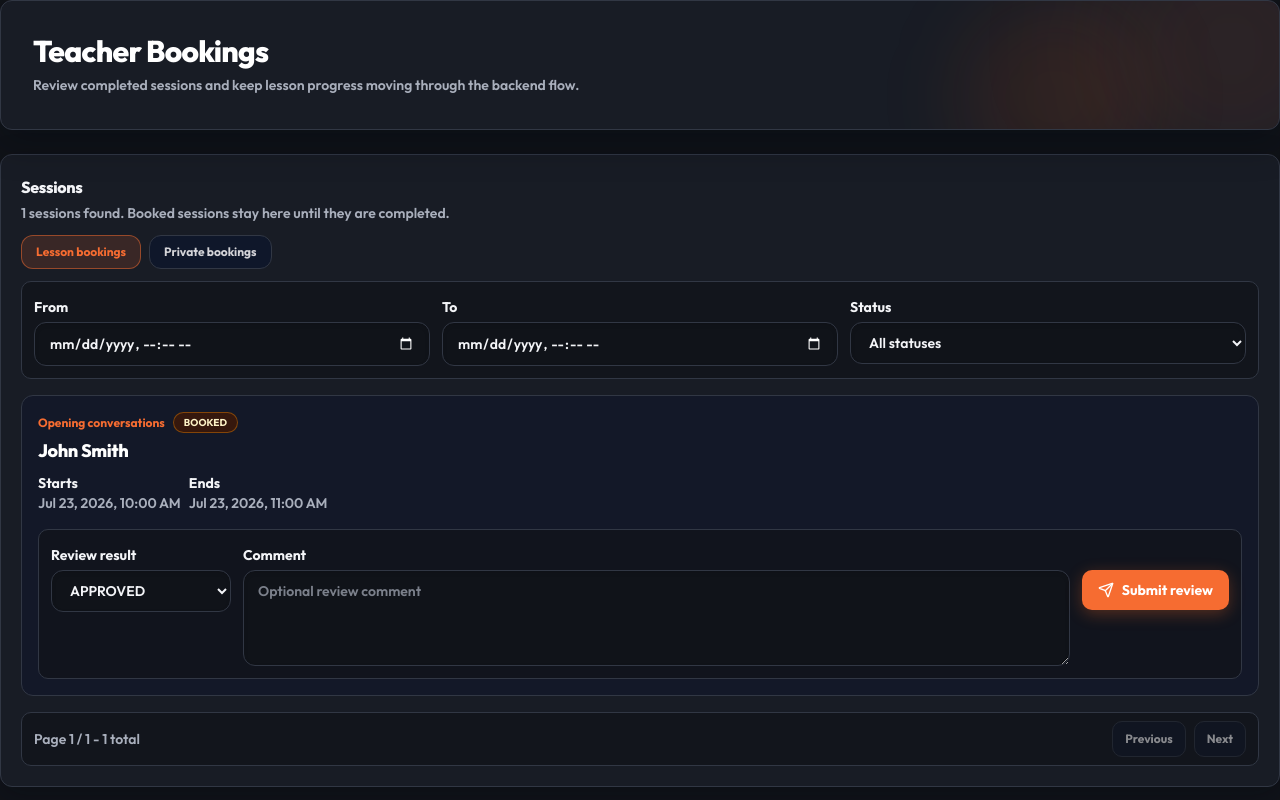
it: Teacher workspace › prevents completing private bookings before the end time
Click the button with test id "teacher-booking-type-private": (210,252) 149,235 -> 272,269
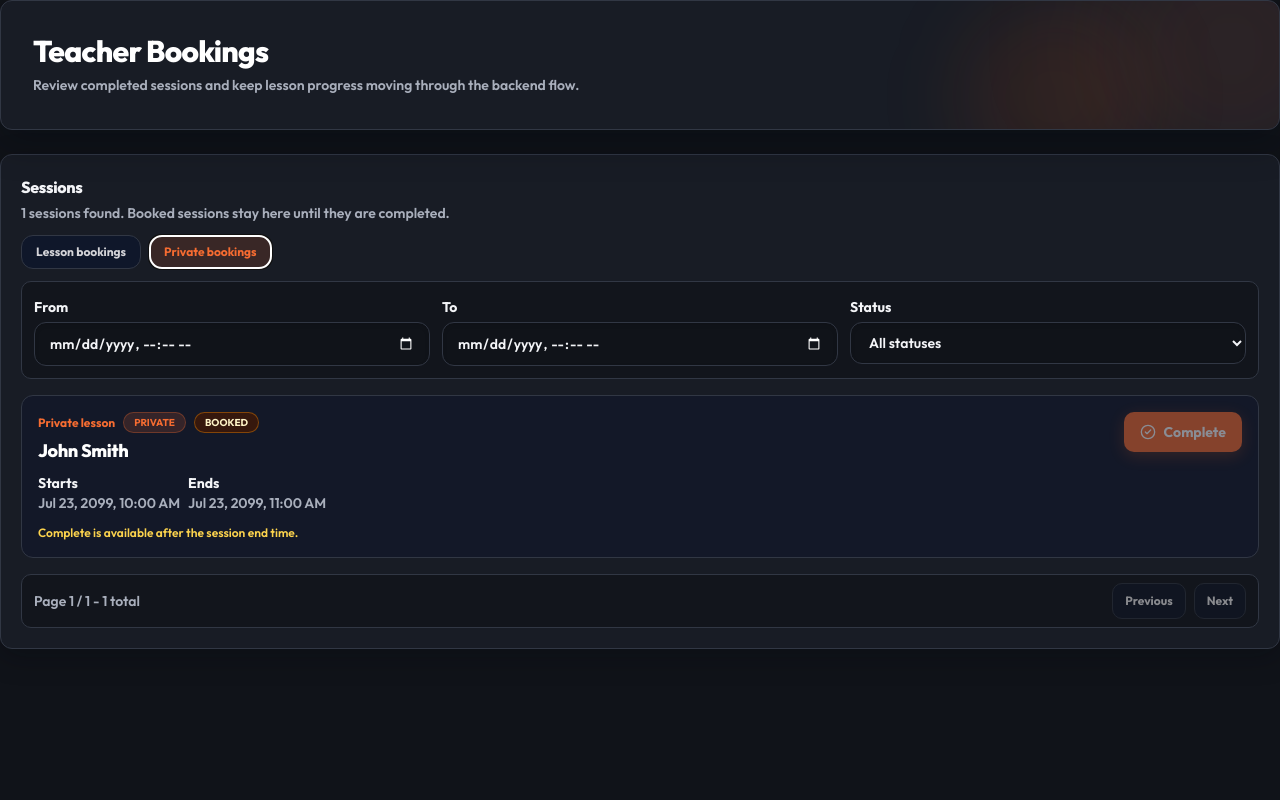
Now the text "Complete is available after the session end time." is shown, box 38,525 -> 330,541
Now the button with test id "complete-private-booking-92" is disabled, box 1124,412 -> 1242,452
